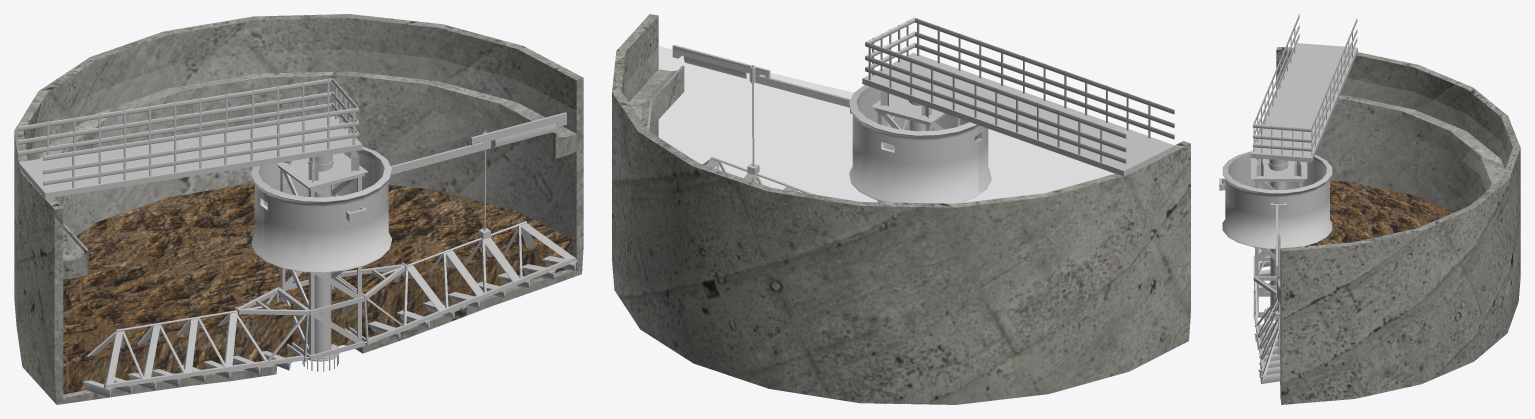
Rendered from Water_Tank.FBX.
The picture shows the model from 3 angles, left to right: view 1: azimuth 30°, elevation 25°; view 2: azimuth 150°, elevation 25°; view 3: azimuth 270°, elevation 25°; orthographic projection. The views are drawn at different scales.
Visible parts, largest first — view 1: MainTank, Sludge001, scraperArm, railling, Floor; view 2: MainTank, Wat, scraperArm, railling, Floor; view 3: MainTank, scraperArm, Wat, Floor, Sludge001, railling.
Boxes of the visible parts, x1,y1,x2,y2 form: MainTank: (14, 14, 583, 404); Sludge001: (63, 183, 572, 394); scraperArm: (82, 112, 576, 397); railling: (17, 78, 359, 188); Floor: (18, 116, 362, 198); MainTank: (612, 14, 1190, 404); Wat: (658, 46, 1113, 202); scraperArm: (672, 44, 991, 203); railling: (865, 17, 1174, 163); Floor: (862, 53, 1174, 176); MainTank: (1273, 47, 1520, 404); scraperArm: (1219, 151, 1332, 383); Wat: (1277, 74, 1414, 195); Floor: (1251, 43, 1357, 162); Sludge001: (1305, 180, 1454, 246); railling: (1252, 14, 1357, 156).
Size of the model in its own units: 14.28 by 6.75 by 8.88.
